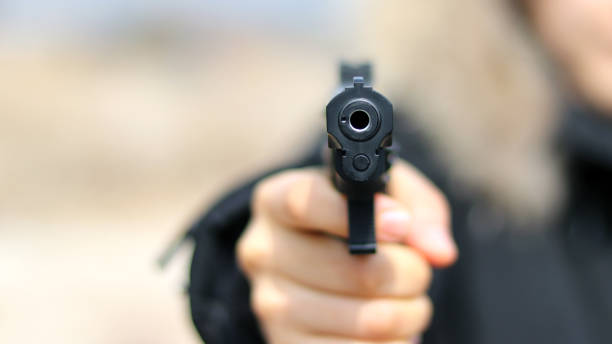gun: (325, 80, 394, 257)
